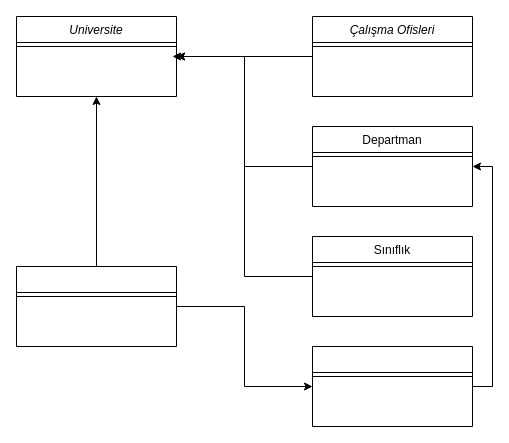
Image size: 509x443. Some labels were removed from this diagram. The centre of each missing label's shape, as x and y in pixels:
Ofis: point 392,386
Professor: point 96,306
